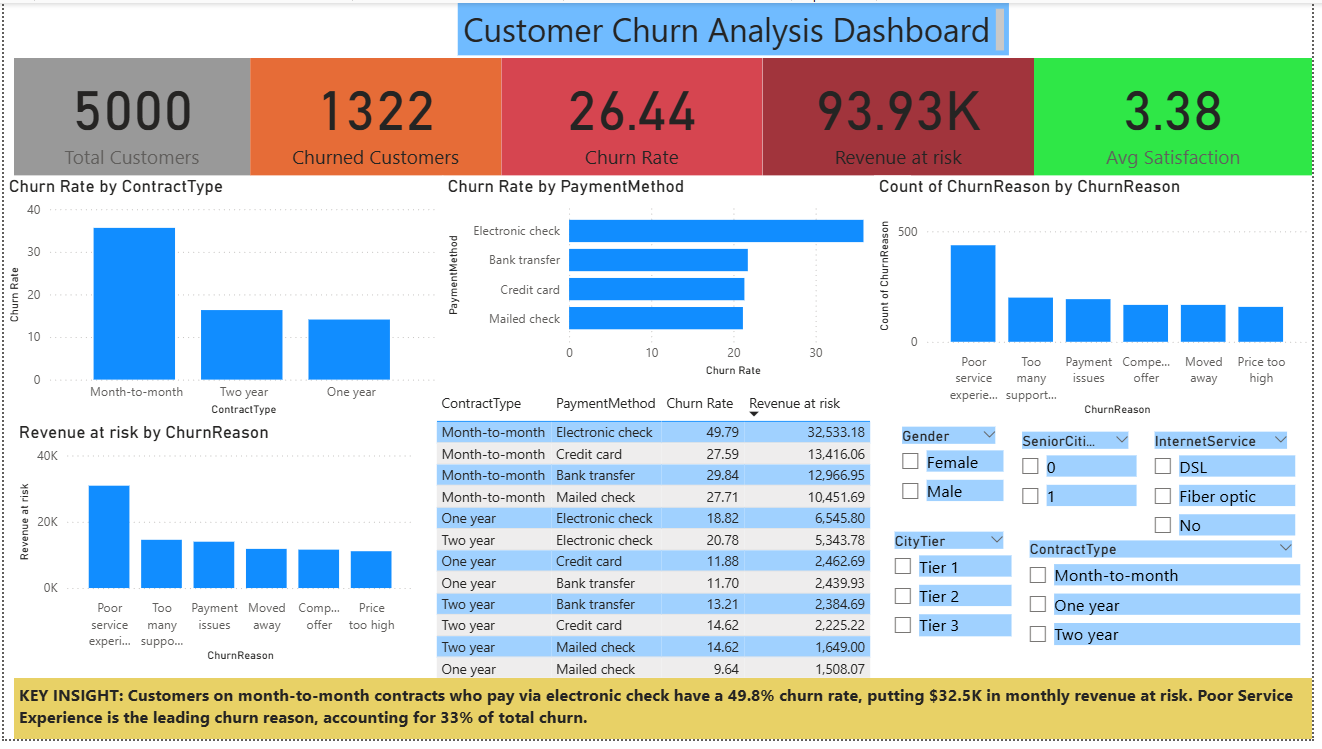

The dashboard page shown, as its layout file describes it:
{"tool":"powerbi","page":{"name":"Page 1","canvas":[1280,720],"ordinal":0},"visuals":[{"type":"card","fields":{"Values":["customer_churn_data.Total Customers"]},"box":[9.8,53.8,231.1,114.9],"z":0},{"type":"card","fields":{"Values":["customer_churn_data.Churned Customers"]},"box":[240.9,53.8,245.8,114.9],"z":1000},{"type":"card","fields":{"Values":["customer_churn_data.Churn Rate"]},"box":[486.7,53.8,255.6,114.9],"z":2000},{"type":"card","fields":{"Values":["customer_churn_data.Revenue at risk"]},"box":[742.3,53.8,265.4,114.9],"z":3000},{"type":"card","fields":{"Values":["customer_churn_data.Avg Satisfaction"]},"box":[1007.6,53.8,272.7,114.9],"z":4000},{"type":"clusteredColumnChart","fields":{"Category":["customer_churn_data.ContractType"],"Y":["customer_churn_data.Churn Rate"]},"box":[0,168.8,429.2,239.7],"z":5000},{"type":"clusteredBarChart","fields":{"Category":["customer_churn_data.PaymentMethod"],"Y":["customer_churn_data.Churn Rate"]},"box":[429.2,168.8,457.3,201.8],"z":6000},{"type":"clusteredColumnChart","fields":{"Category":["customer_churn_data.ChurnReason"],"Y":["CountNonNull(customer_churn_data.ChurnReason)"]},"box":[851.1,168.8,429.2,239.7],"z":7000},{"type":"clusteredColumnChart","fields":{"Category":["customer_churn_data.ChurnReason"],"Y":["customer_churn_data.Revenue at risk"]},"box":[9.8,409.6,396.2,239.7],"z":8000},{"type":"tableEx","fields":{"Values":["customer_churn_data.ContractType","customer_churn_data.PaymentMethod","customer_churn_data.Churn Rate","customer_churn_data.Revenue at risk"]},"box":[417,375.4,445.1,295.9],"z":9000},{"type":"slicer","fields":{"Values":["customer_churn_data.Gender"]},"box":[865.8,409.6,117.4,88],"z":10000},{"type":"slicer","fields":{"Values":["customer_churn_data.CityTier"]},"box":[858.4,512.4,132.1,137],"z":11000},{"type":"slicer","fields":{"Values":["customer_churn_data.InternetService"]},"box":[1112.8,414.5,155.3,124.7],"z":12000},{"type":"slicer","fields":{"Values":["customer_churn_data.SeniorCitizen"]},"box":[983.2,414.5,129.6,88],"z":13000},{"type":"slicer","fields":{"Values":["customer_churn_data.ContractType"]},"box":[990.5,520.9,282.5,121.1],"z":14000},{"type":"textbox","box":[443.9,0,539.3,51.4],"z":15000},{"type":"textbox","box":[9.8,660.3,1270.5,59.9],"z":15001}]}

Visuals, with their boxes in screenshot pixels (x1, y1, x2, y2), scaled from the page's 1280x720 canvas onto the 1322x749 screenshot:
card - customer_churn_data.Total Customers: <region>10, 56, 249, 175</region>
card - customer_churn_data.Churned Customers: <region>249, 56, 503, 175</region>
card - customer_churn_data.Churn Rate: <region>503, 56, 767, 175</region>
card - customer_churn_data.Revenue at risk: <region>767, 56, 1041, 175</region>
card - customer_churn_data.Avg Satisfaction: <region>1041, 56, 1321, 175</region>
clusteredColumnChart - customer_churn_data.ContractType x customer_churn_data.Churn Rate: <region>0, 176, 443, 425</region>
clusteredBarChart - customer_churn_data.PaymentMethod x customer_churn_data.Churn Rate: <region>443, 176, 916, 386</region>
clusteredColumnChart - customer_churn_data.ChurnReason x CountNonNull(customer_churn_data.ChurnReason): <region>879, 176, 1321, 425</region>
clusteredColumnChart - customer_churn_data.ChurnReason x customer_churn_data.Revenue at risk: <region>10, 426, 419, 675</region>
tableEx - customer_churn_data.ContractType x customer_churn_data.PaymentMethod: <region>431, 391, 890, 698</region>
slicer - customer_churn_data.Gender: <region>894, 426, 1015, 518</region>
slicer - customer_churn_data.CityTier: <region>887, 533, 1023, 676</region>
slicer - customer_churn_data.InternetService: <region>1149, 431, 1310, 561</region>
slicer - customer_churn_data.SeniorCitizen: <region>1015, 431, 1149, 523</region>
slicer - customer_churn_data.ContractType: <region>1023, 542, 1315, 668</region>
textbox: <region>458, 0, 1015, 53</region>
textbox: <region>10, 687, 1321, 748</region>
